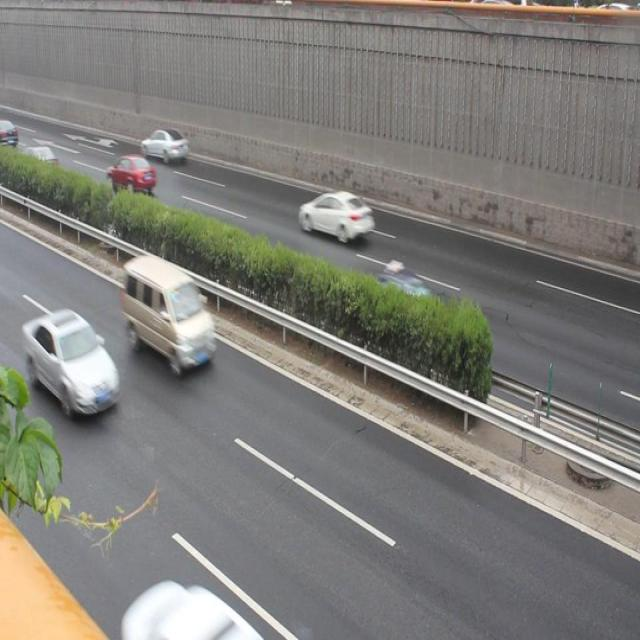car: (22, 307, 120, 416), (117, 580, 263, 640), (344, 273, 445, 348), (298, 191, 373, 243), (102, 153, 154, 191), (140, 128, 188, 166), (22, 148, 59, 178)
truck: (122, 252, 216, 364)
